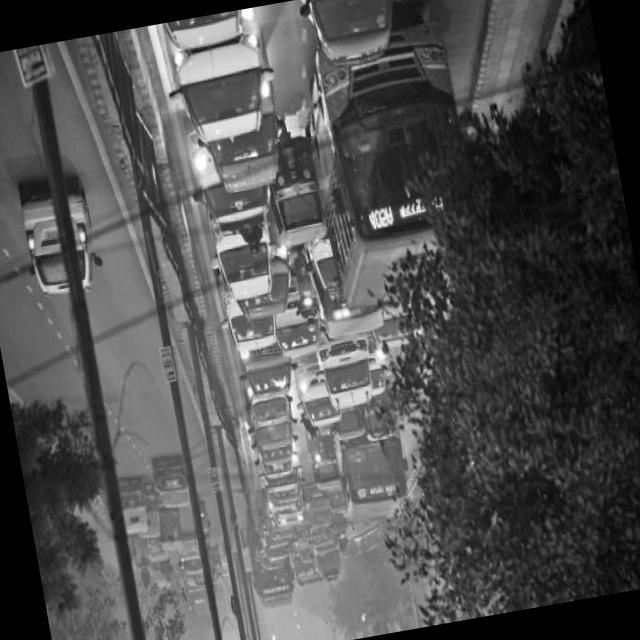ambulance: (326, 300, 381, 328), (273, 504, 306, 528)
